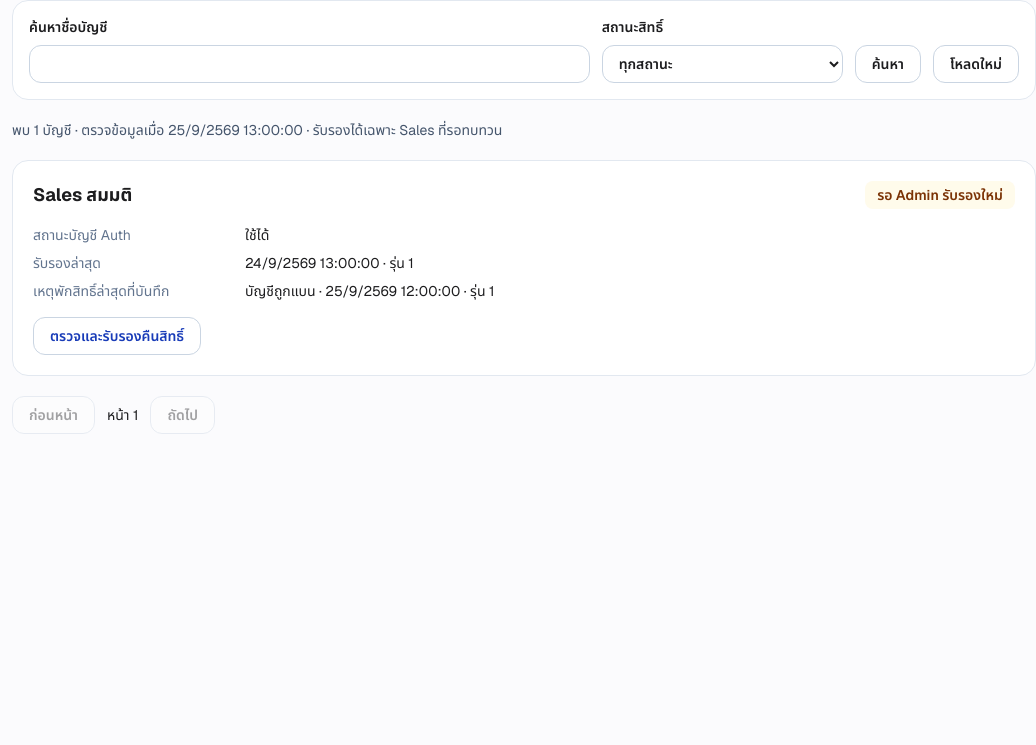
Test: Sales restoration presentation › hides form on auth invalidation and discards late mutation result
Click the button "ตรวจและรับรองคืนสิทธิ์" at (117, 336), box [33, 317, 201, 355]
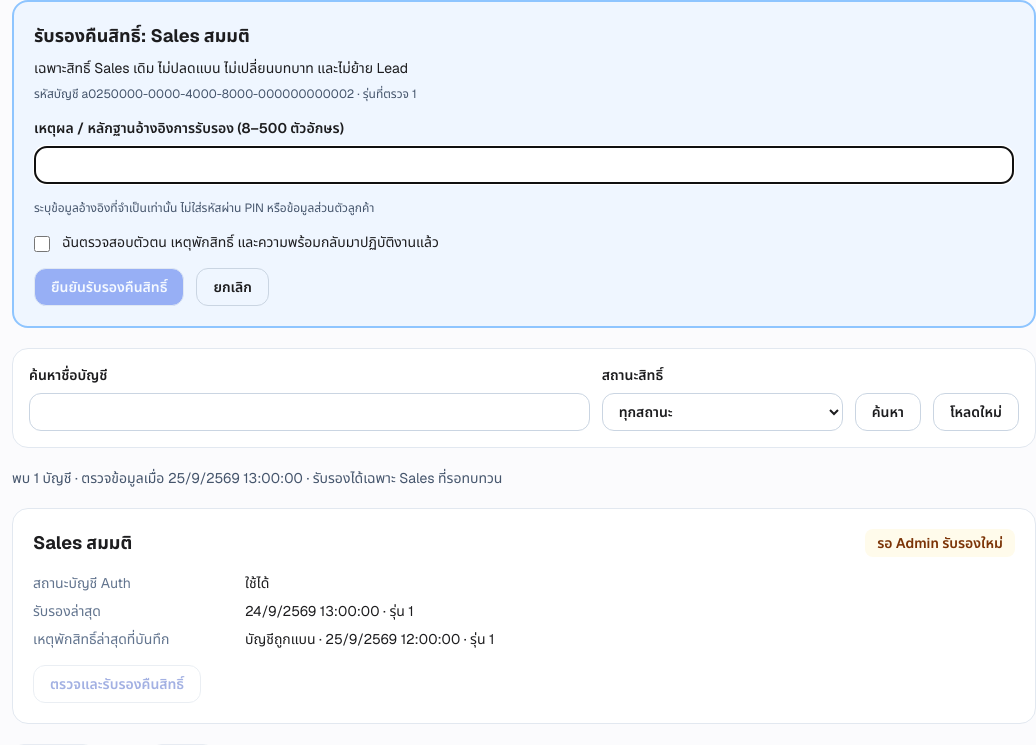
Type "ตรวจสอบตัวตนและความพร้อมแล้ว" into the field labelled "เหตุผล / หลักฐานอ้างอิงการรับรอง (8–500 ตัวอักษร)" at (524, 165), box [34, 146, 1014, 184]
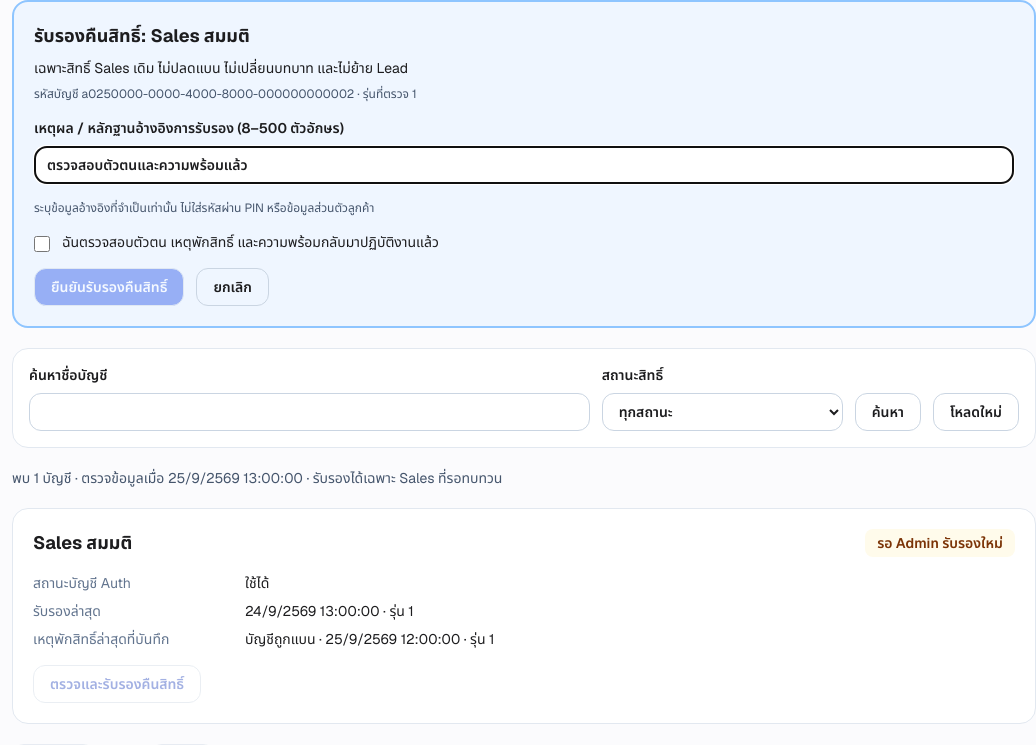
Click the checkbox at (42, 244), box [34, 236, 50, 252]
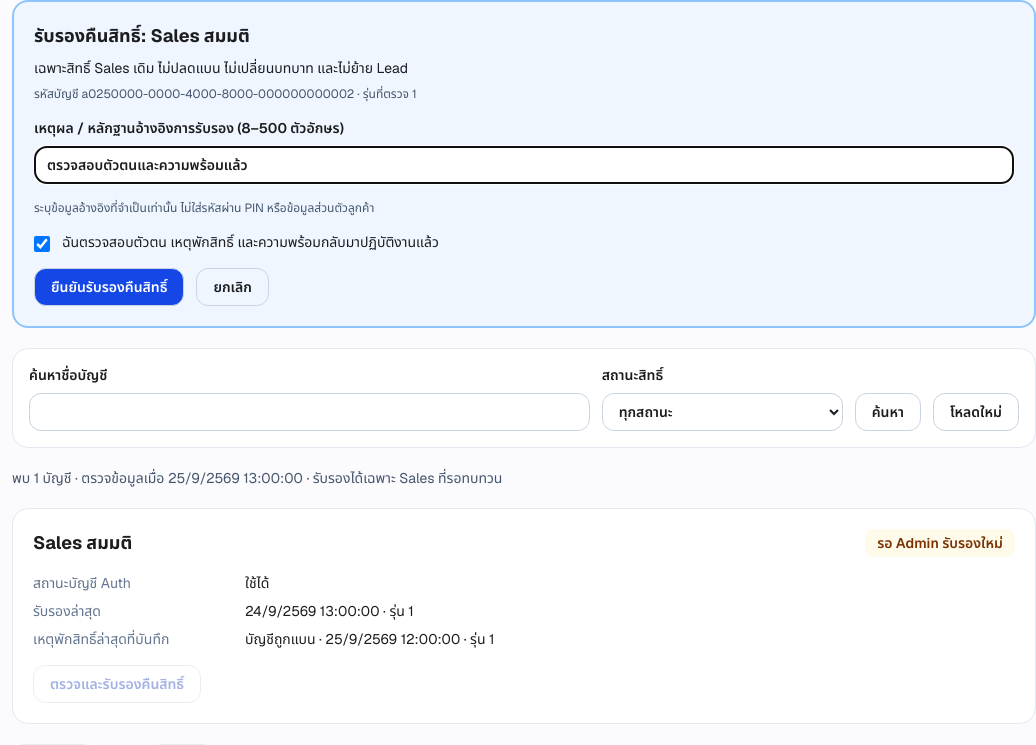
Click the button "ยืนยันรับรองคืนสิทธิ์" at (109, 287), box [34, 268, 184, 306]
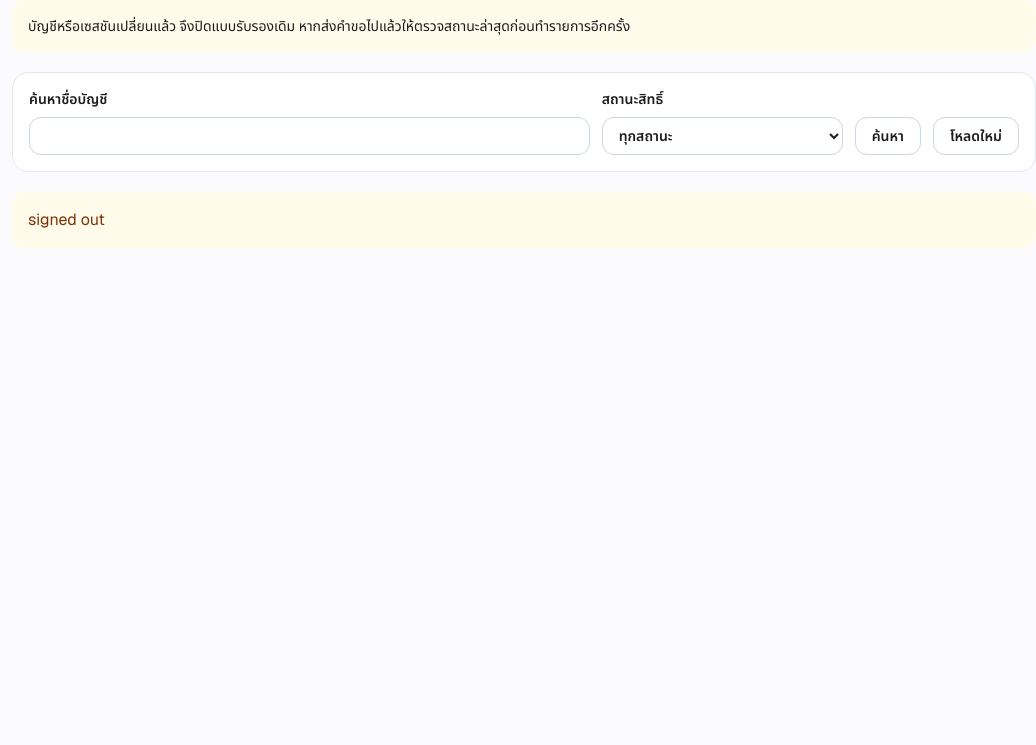
Expected: the checkbox is gone
